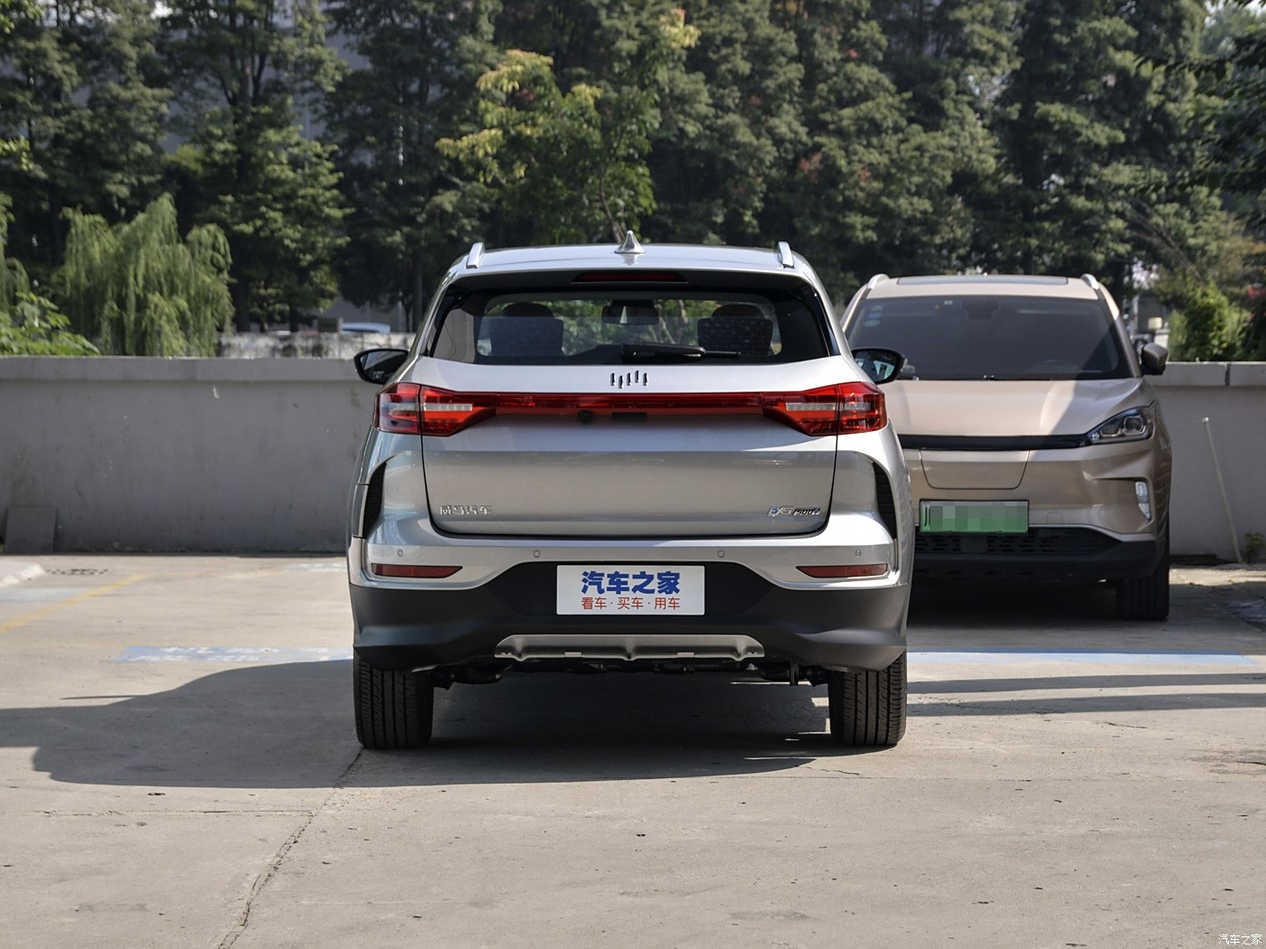WELTMEISTER: (610, 371, 647, 389)
